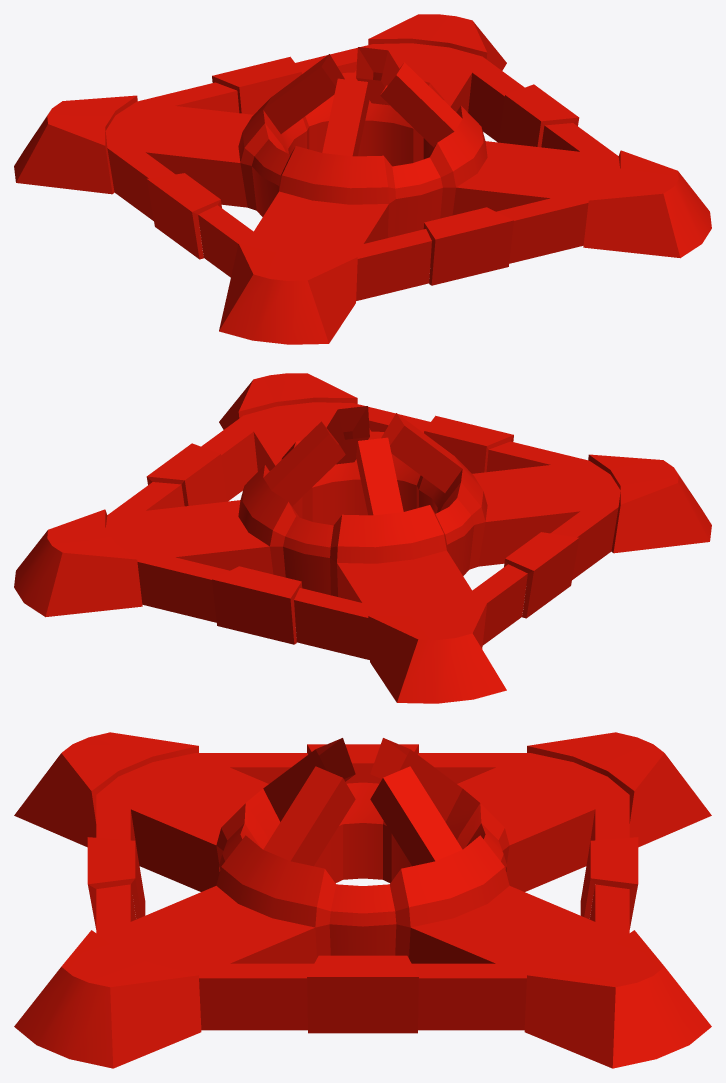
File: Mod_BaseMechaPlatform.fbx
3 renders of one model, top to bottom at view 1: azimuth 30°, elevation 25°; view 2: azimuth 150°, elevation 25°; view 3: azimuth 270°, elevation 25°, orthographic. The views are drawn at different scales.
Parts seen in each view (by area): view 1: Mod_BaseMechaPlatform; view 2: Mod_BaseMechaPlatform; view 3: Mod_BaseMechaPlatform.
Part boxes in pixels (<box>): Mod_BaseMechaPlatform: <box>14,14,711,344</box>; Mod_BaseMechaPlatform: <box>14,373,711,703</box>; Mod_BaseMechaPlatform: <box>14,732,711,1068</box>.
Size of the model in its own units: 543 by 141 by 543.
